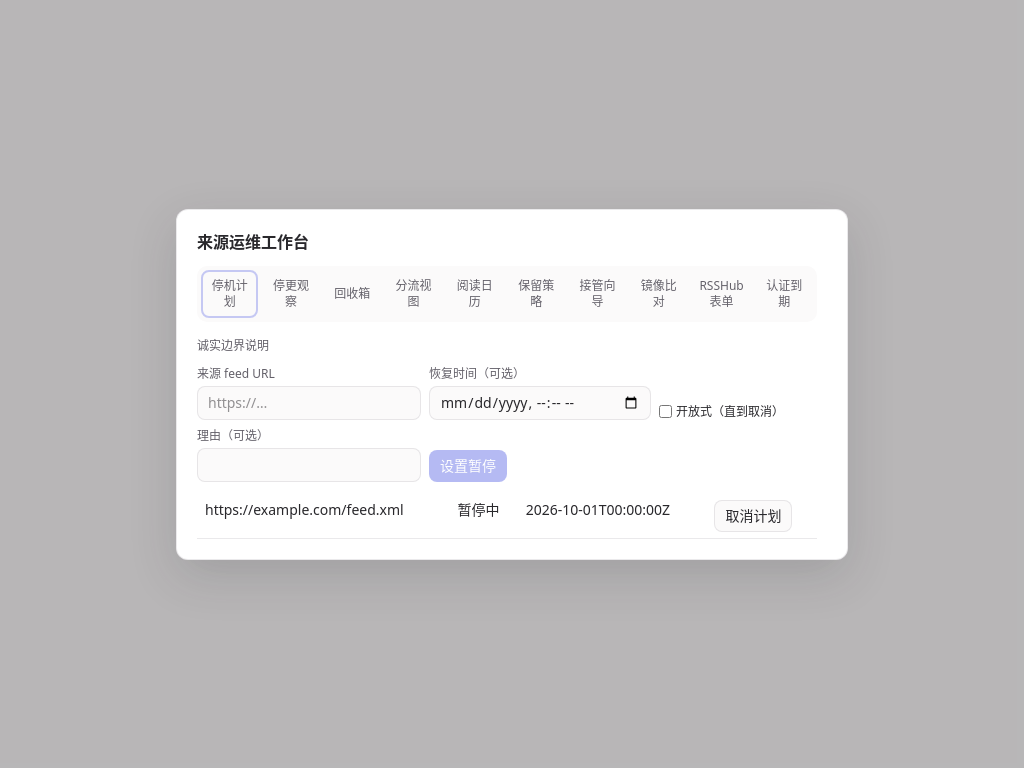
NEW-201..210 来源运维工作台 › 停机计划：取消计划走真实取消端点并刷新列表状态
Click the button "取消计划": (753, 516) [714,500,792,532]
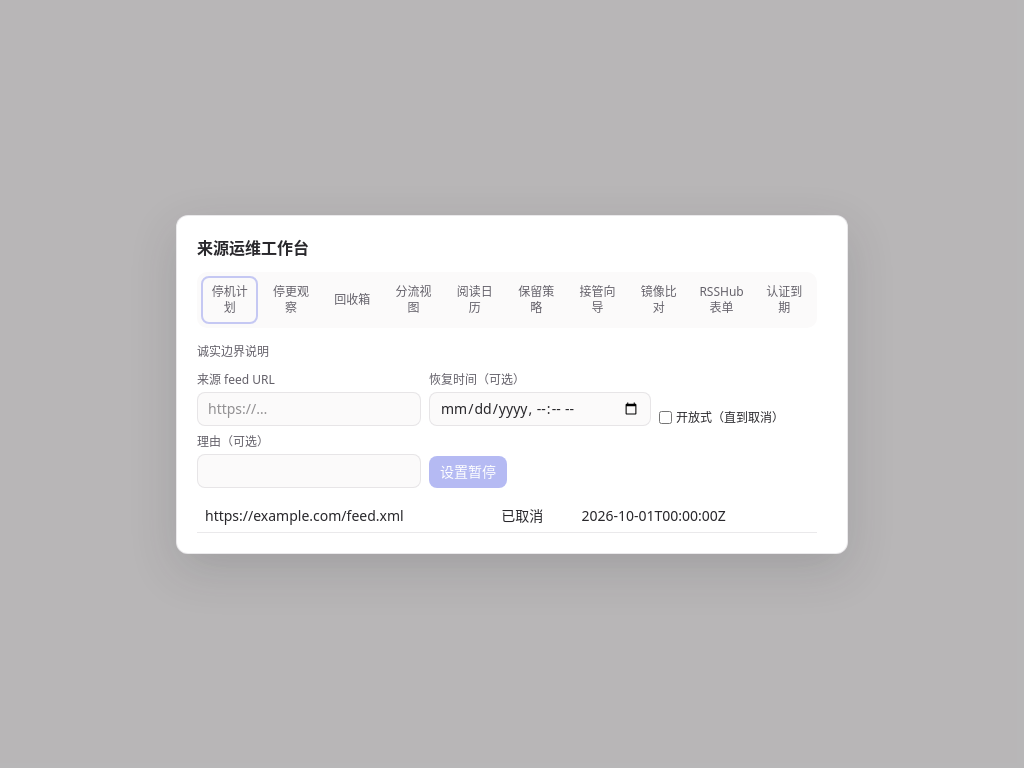
Result: the text "已取消" is shown at [493,500,573,532]
